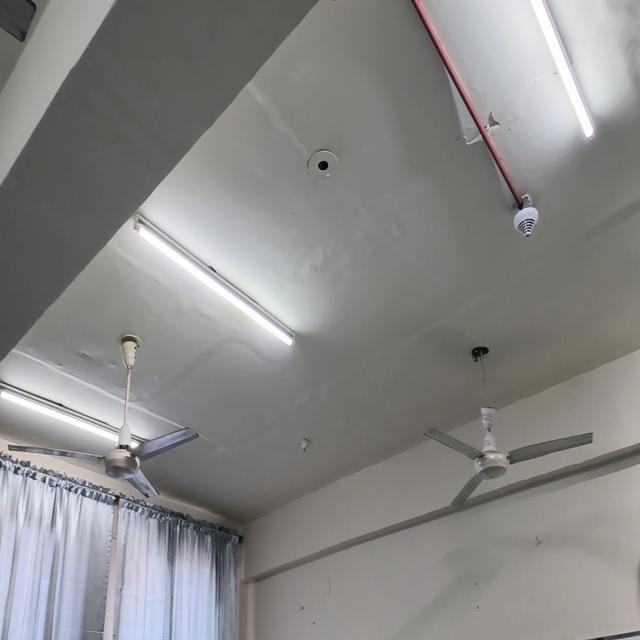Light: (134, 212, 294, 346), (0, 382, 144, 451), (530, 0, 594, 139)
